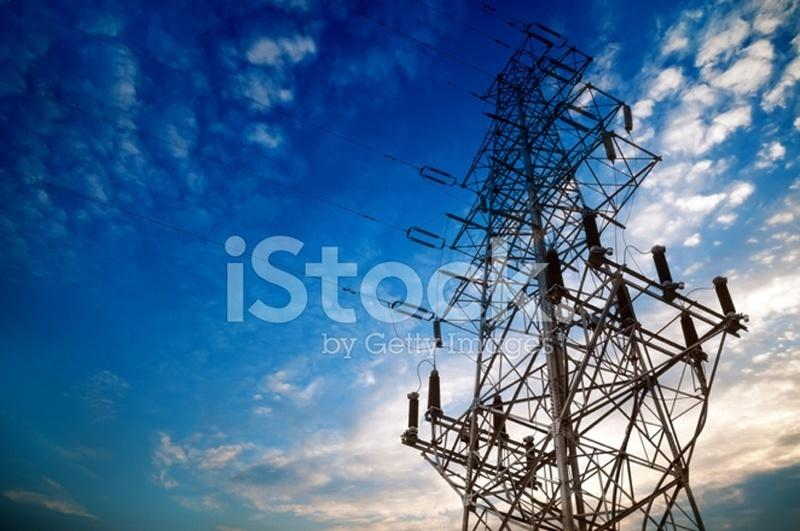power_tower: (397, 41, 737, 520)
